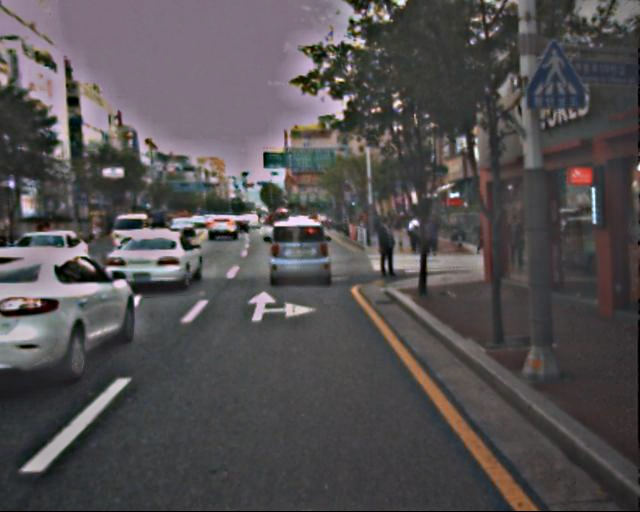person: (375, 222, 398, 278), (404, 218, 428, 252)
